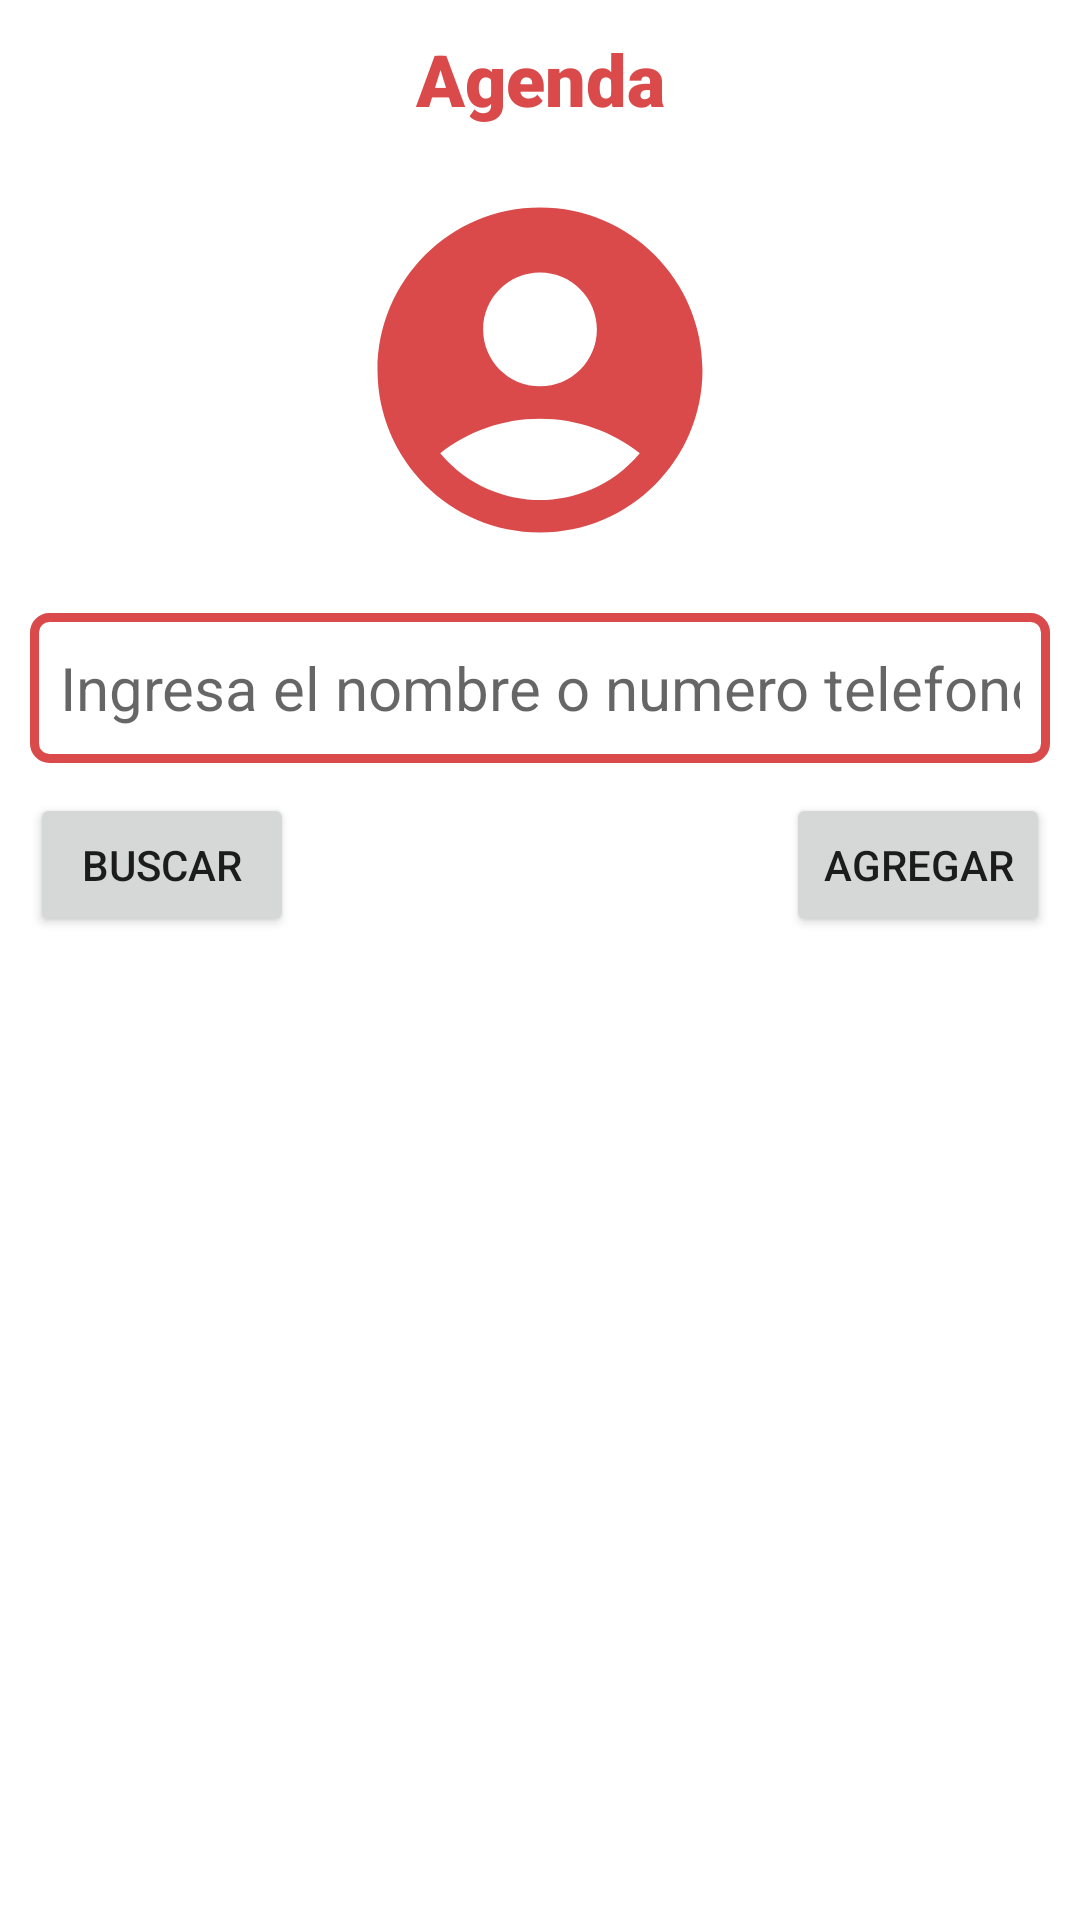

Icon click points for this 1080px x 1920px phone screenshot, format (x,y):
contact circle: (540,370)
